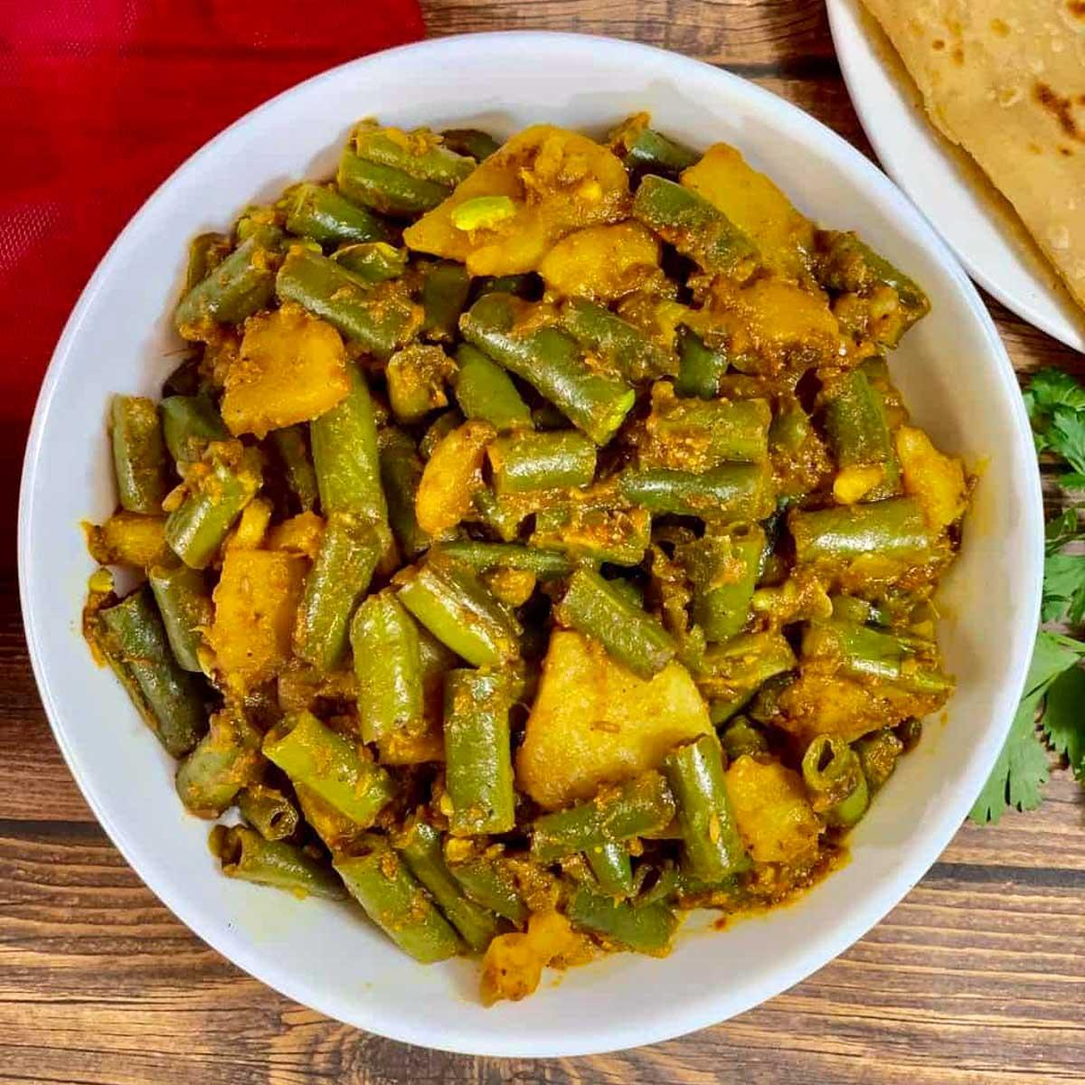aloo sabji: (164, 140, 939, 927)
